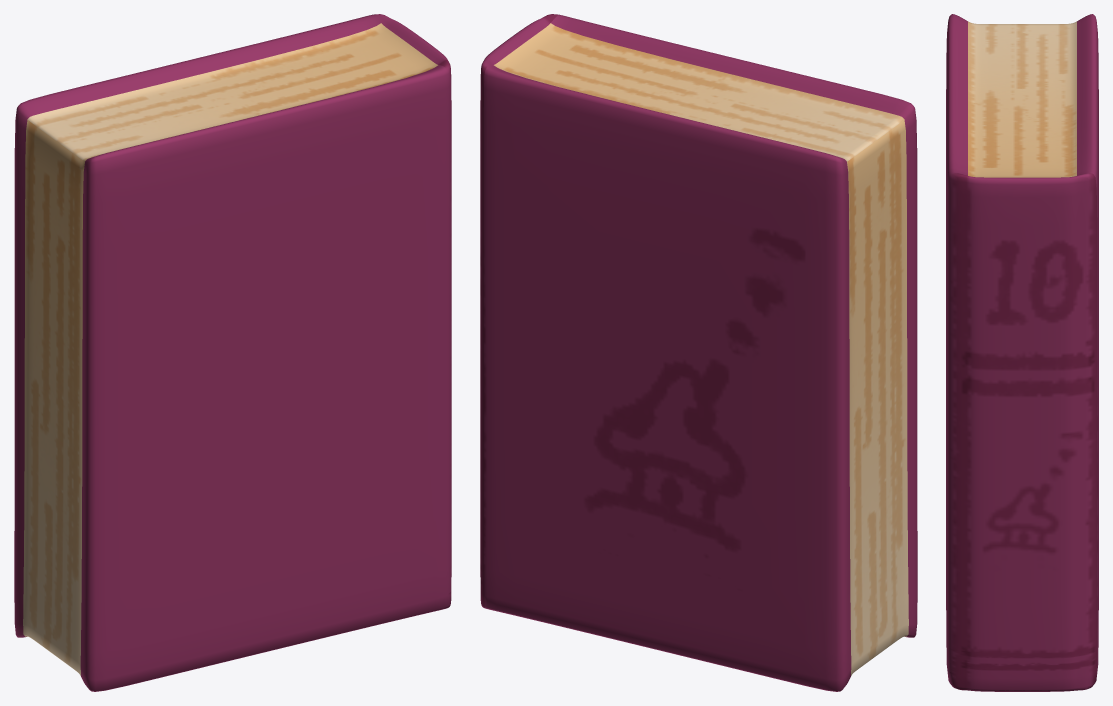
File: level10.fbx
3 views of the same model, side by side, from view 1: azimuth 30°, elevation 25°; view 2: azimuth 150°, elevation 25°; view 3: azimuth 270°, elevation 25° (orthographic). The views are drawn at different scales.
Parts seen in each view (by area): view 1: Cube; view 2: Cube; view 3: Cube.
Part boxes in pixels (bbox=[...]): Cube: bbox=[14, 14, 451, 691]; Cube: bbox=[480, 14, 917, 691]; Cube: bbox=[946, 14, 1098, 691].
Bounding box in the file's own units: 7.54 × 20.27 × 28.04.
